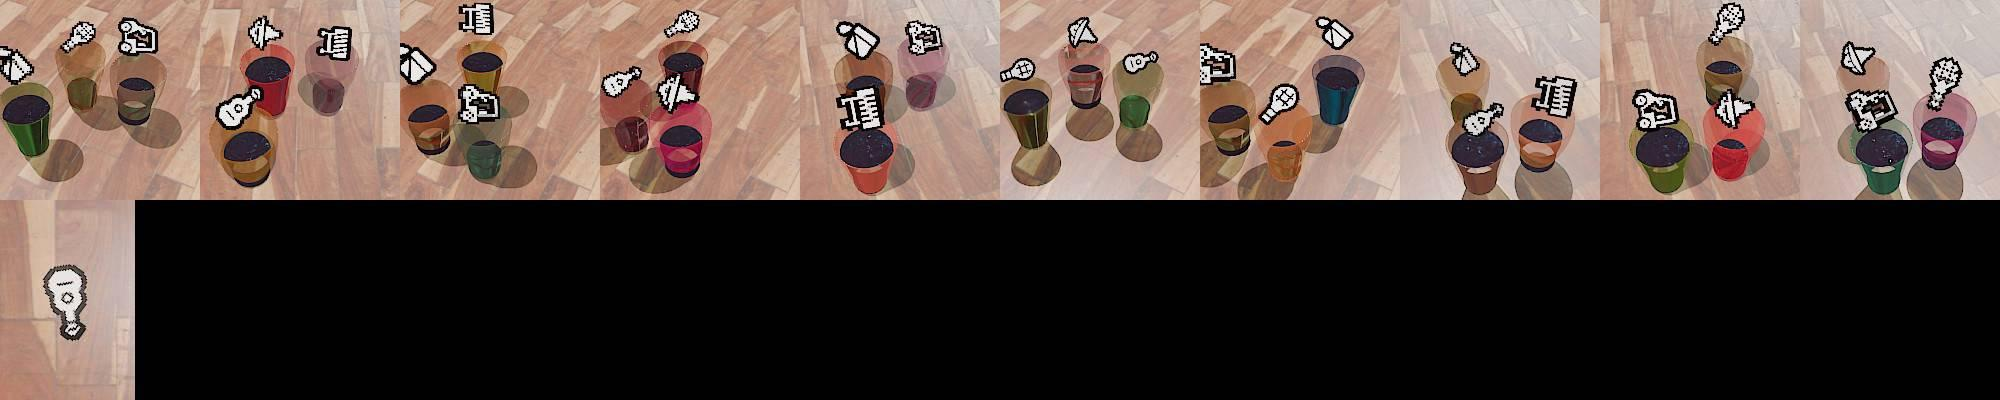icon: (40, 264, 89, 341), (834, 82, 884, 131), (1844, 89, 1897, 134), (1532, 73, 1579, 120), (214, 87, 263, 130), (1633, 87, 1680, 130), (1926, 57, 1963, 110), (457, 82, 503, 124), (656, 71, 699, 113), (837, 19, 880, 60), (1259, 83, 1300, 125), (1198, 42, 1235, 88), (1713, 88, 1754, 129), (1463, 99, 1506, 138), (117, 18, 158, 57), (1709, 3, 1746, 46), (399, 42, 436, 85), (601, 65, 644, 99), (906, 19, 944, 56), (246, 15, 284, 52), (0, 45, 34, 85), (1316, 15, 1353, 52), (457, 3, 495, 37), (60, 20, 97, 55), (316, 25, 351, 62), (1841, 42, 1875, 76), (1449, 41, 1481, 78), (663, 9, 702, 39), (999, 59, 1037, 85), (1066, 15, 1097, 48), (1121, 50, 1158, 74)
